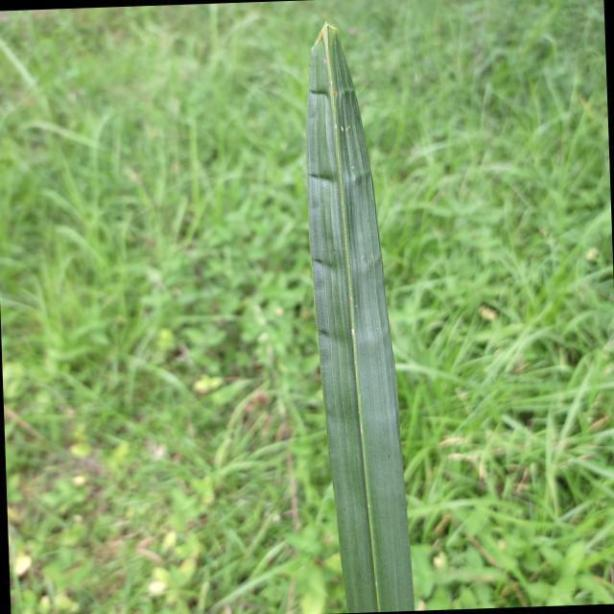Boron: (304, 16, 416, 614)
